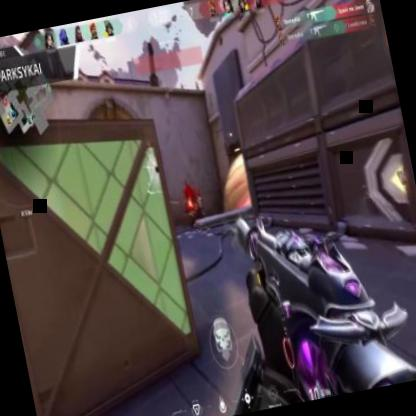enemy: (188, 192, 202, 230)
enemy_head: (188, 194, 196, 204)
